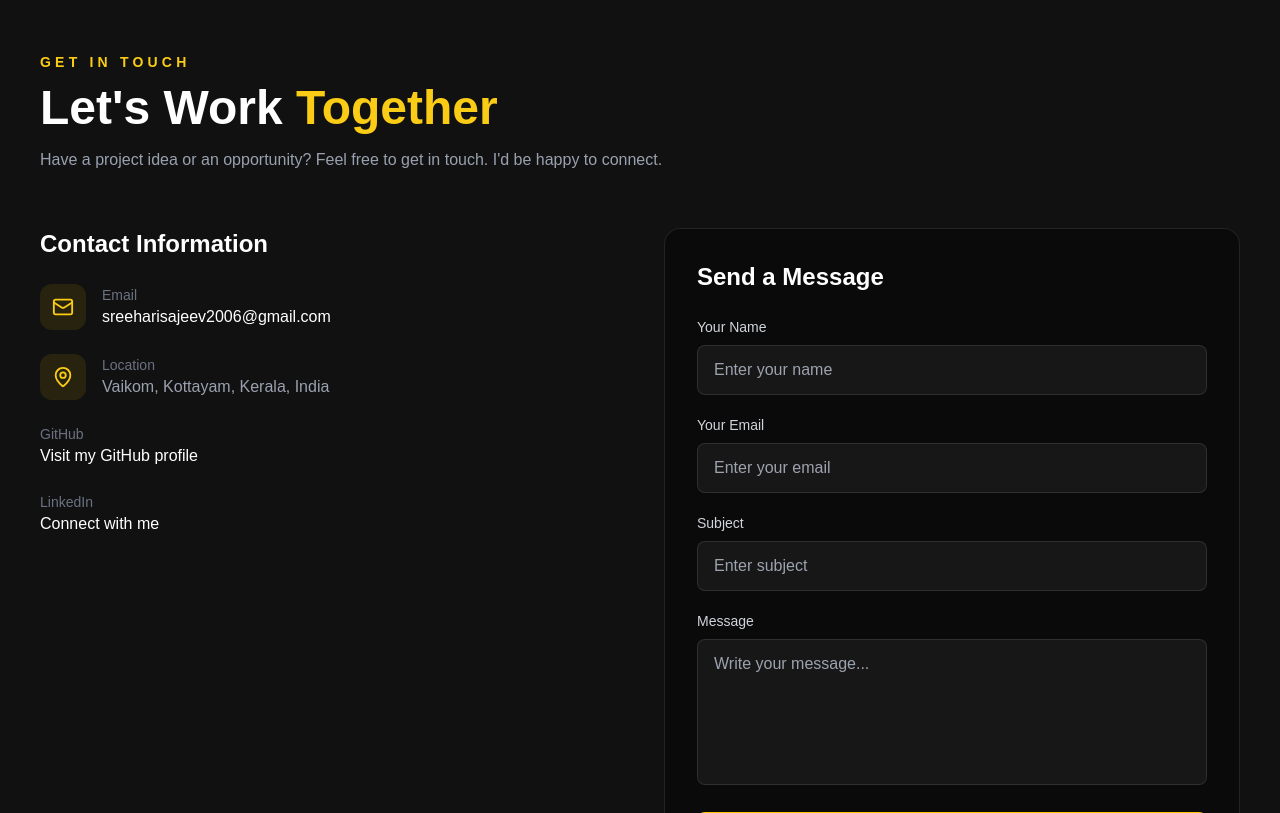
Test: Contact Component › sends email and shows success message after valid submission
Type "Sreehari" into the field labelled "Your Name".
click(952, 370); type("Sreehari")  # box [697, 345, 1207, 395]
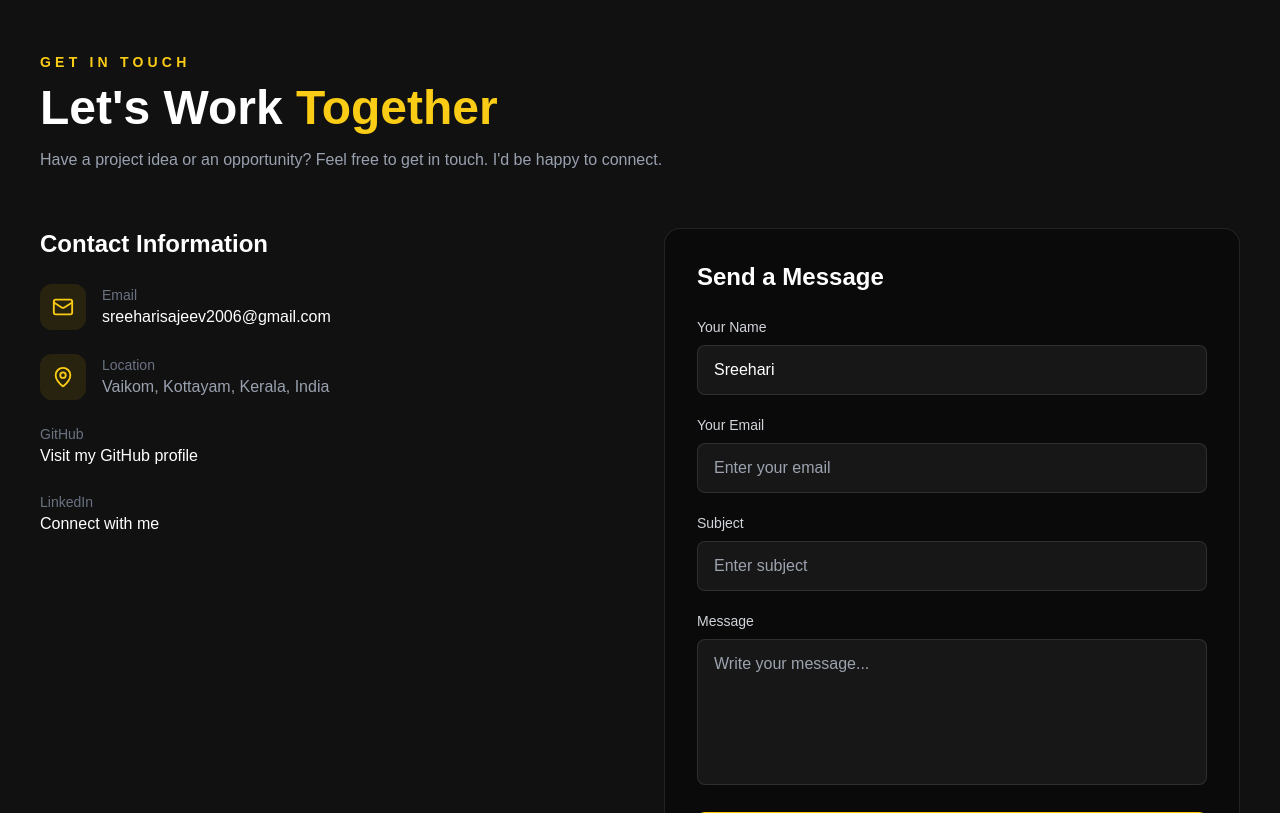
Type "test@example.com" into the field labelled "Your Email".
click(952, 468); type("test@example.com")  # box [697, 443, 1207, 493]
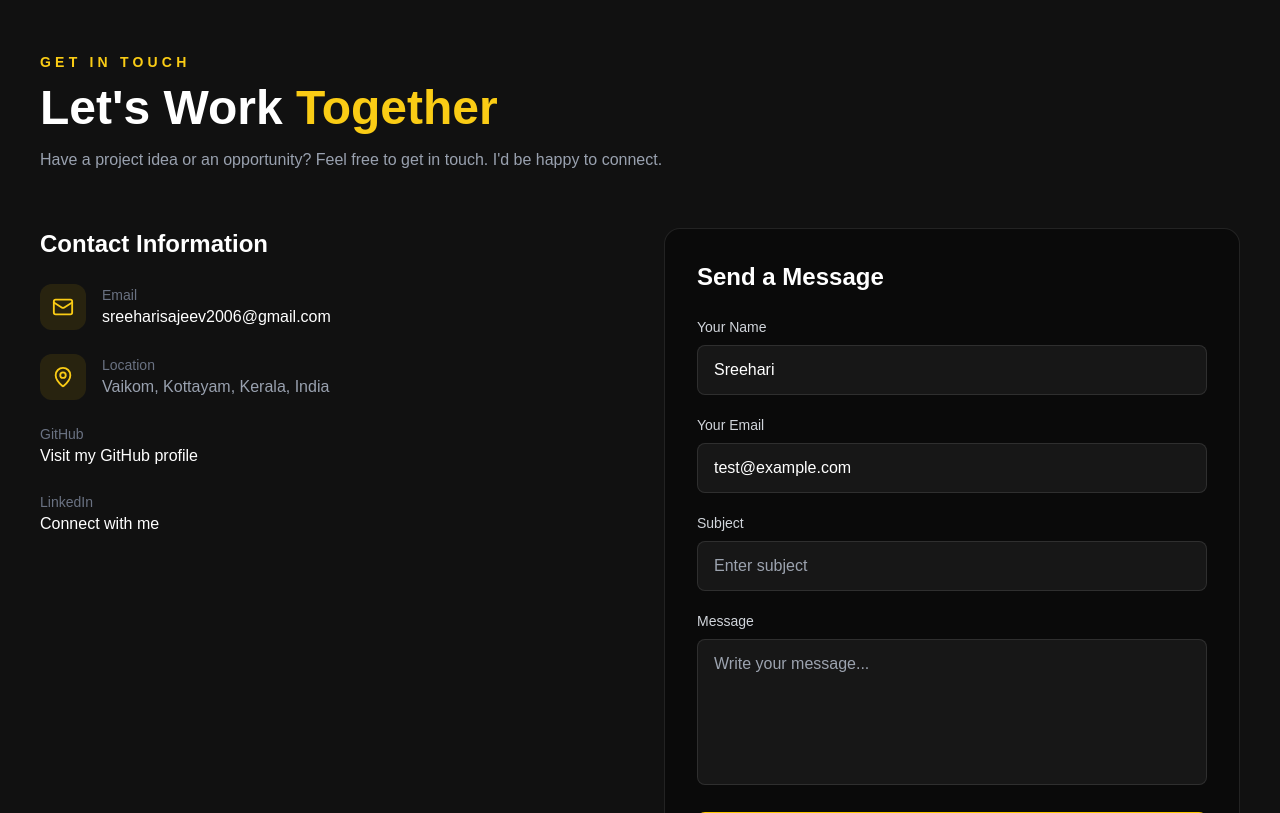
Type "Job Opportunity" into the field labelled "Subject".
click(952, 566); type("Job Opportunity")  # box [697, 541, 1207, 591]
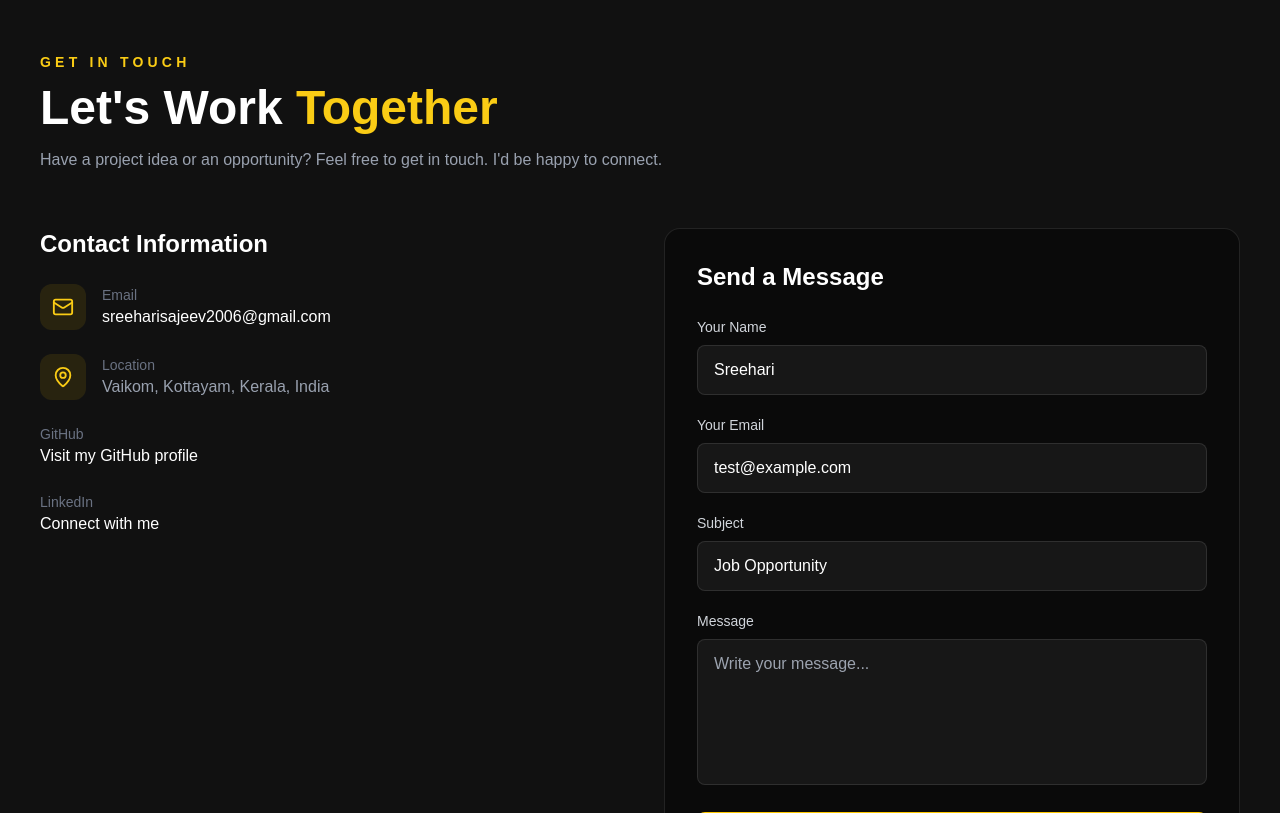
Type "Hello, I would like to connect." into the text box labelled "Message".
click(952, 712); type("Hello, I would like to connect.")  # box [697, 639, 1207, 785]
(page scrolled)
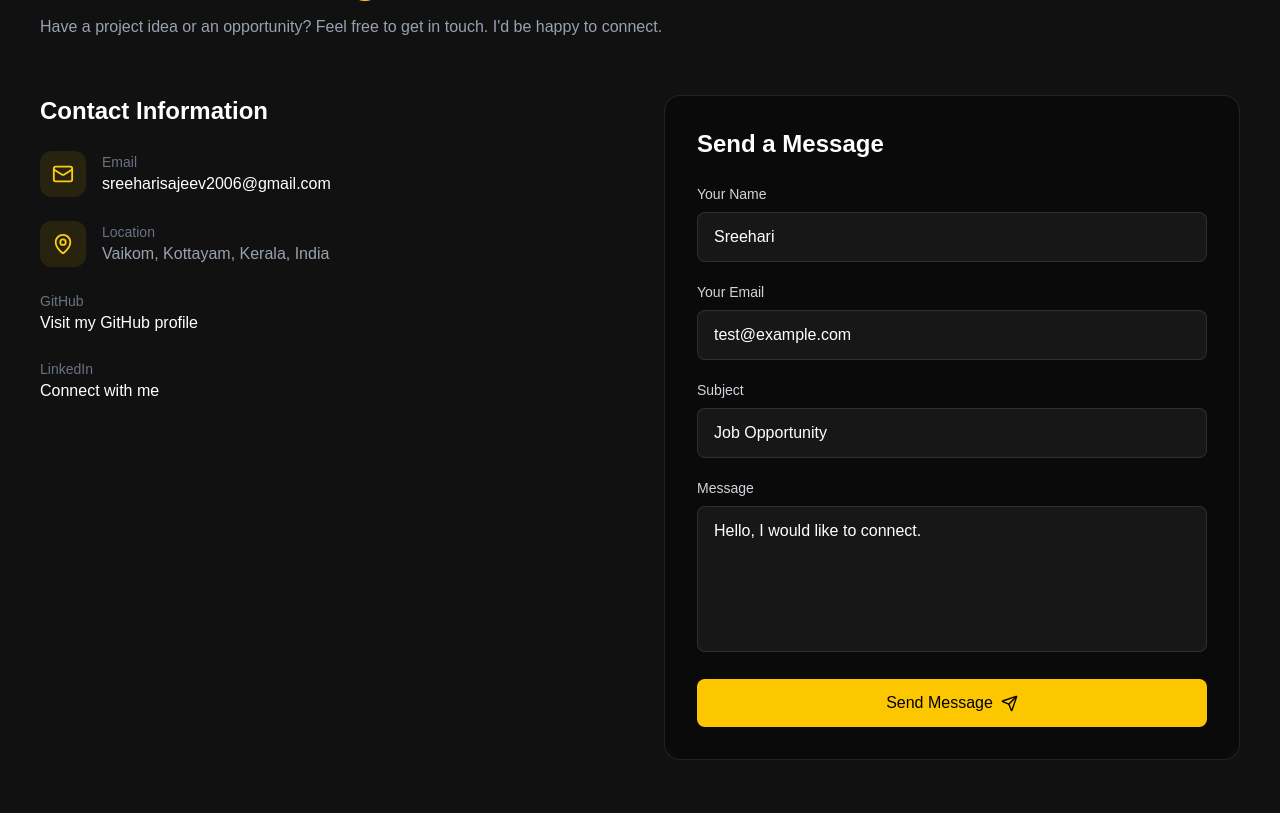
Click the button "Send Message".
click(952, 703)  # box [697, 679, 1207, 727]
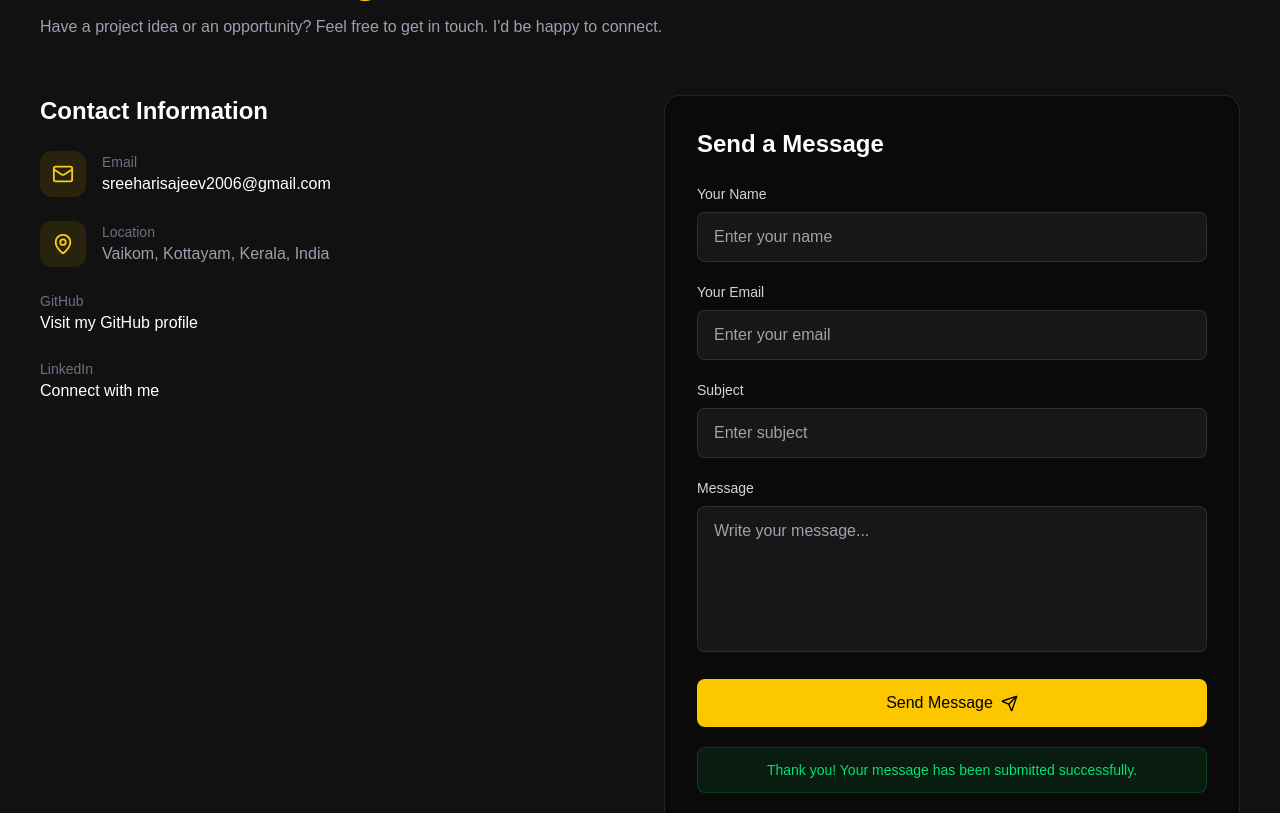
Result: the message reads "Thank you! Your message has been submitted successfully." at [767, 762, 1137, 778]
